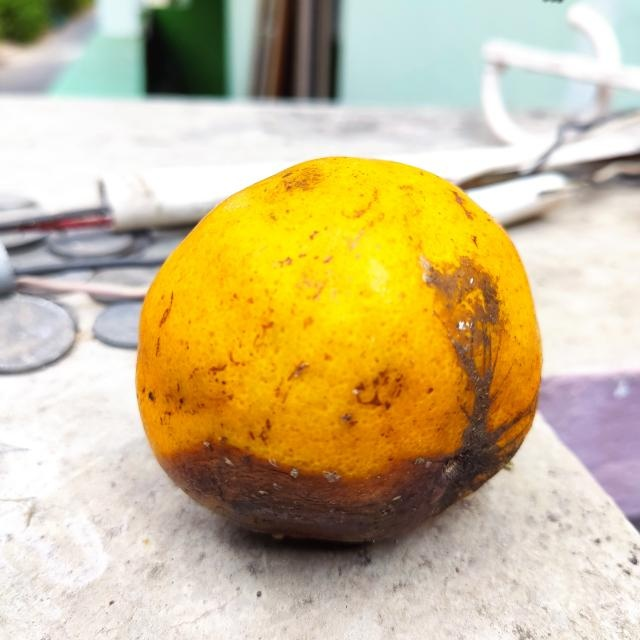agrume: (136, 153, 542, 555)
